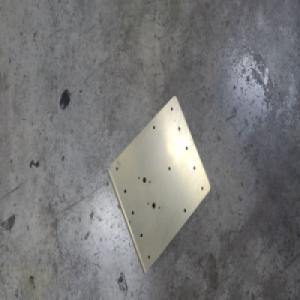MetalSheet: (106, 94, 212, 276)
